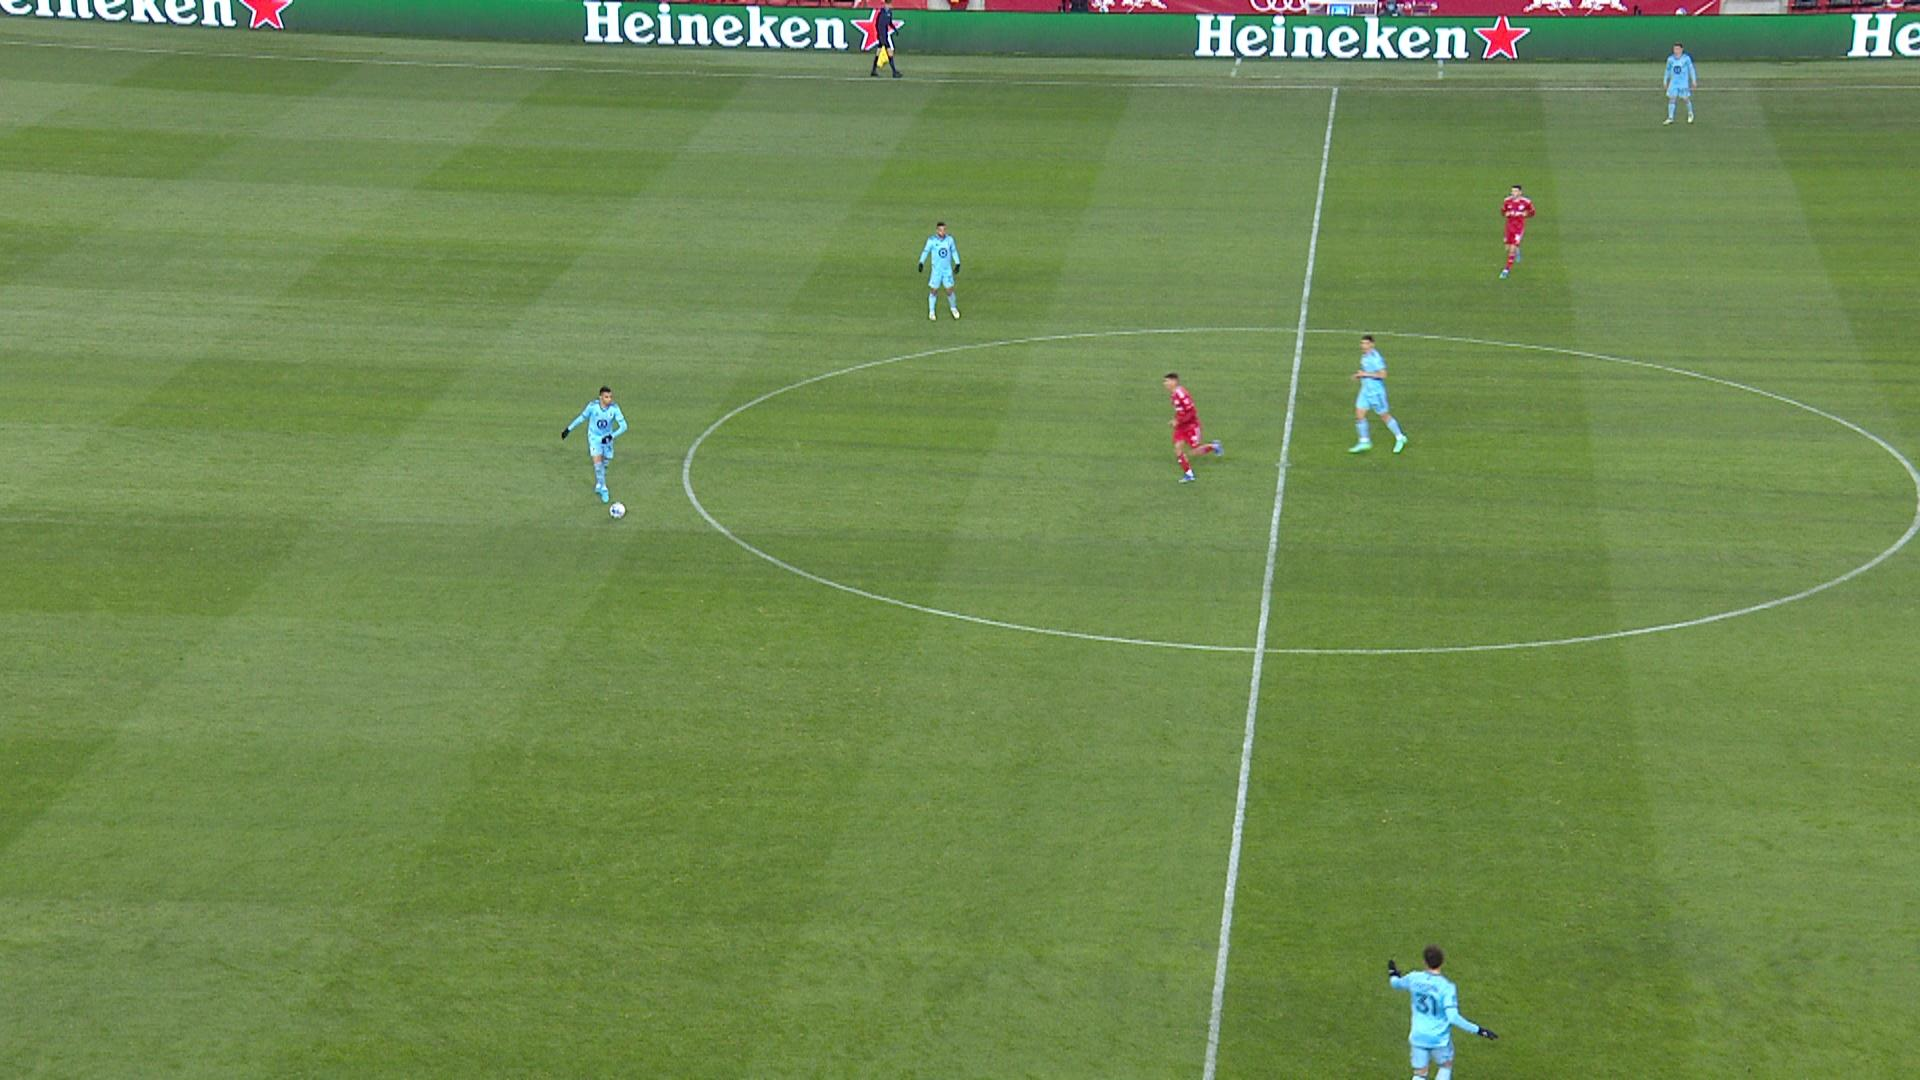football: (609, 502, 626, 520)
